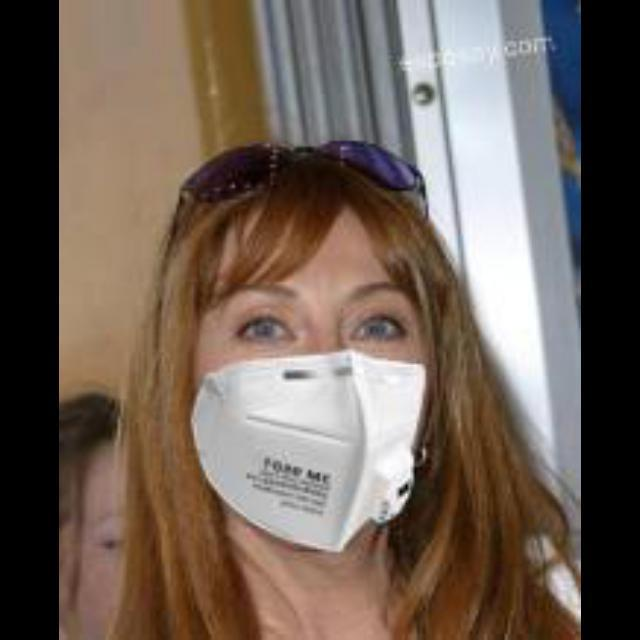suspicion: (132, 161, 474, 545)
